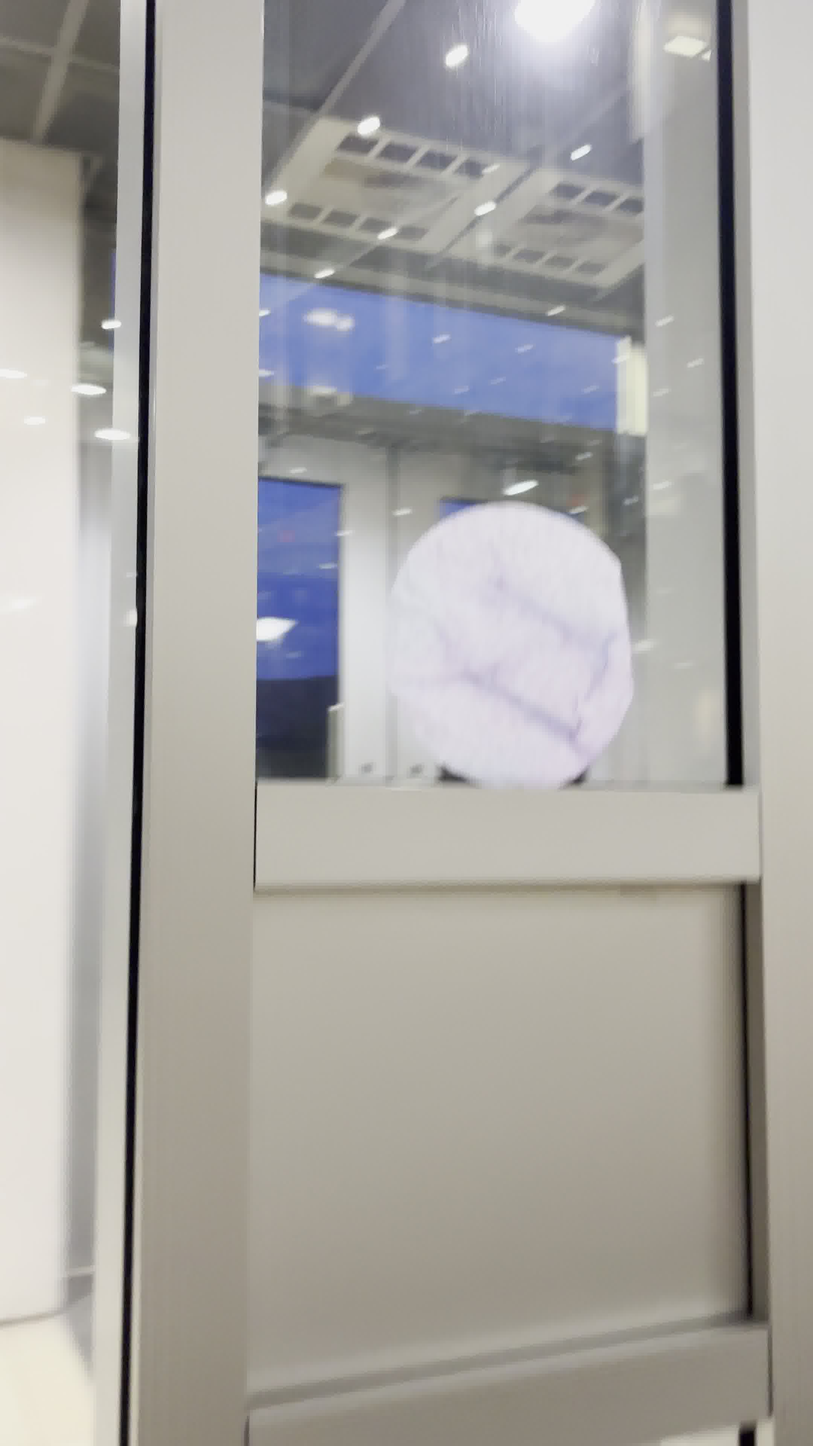Target: (369, 494, 641, 795)
